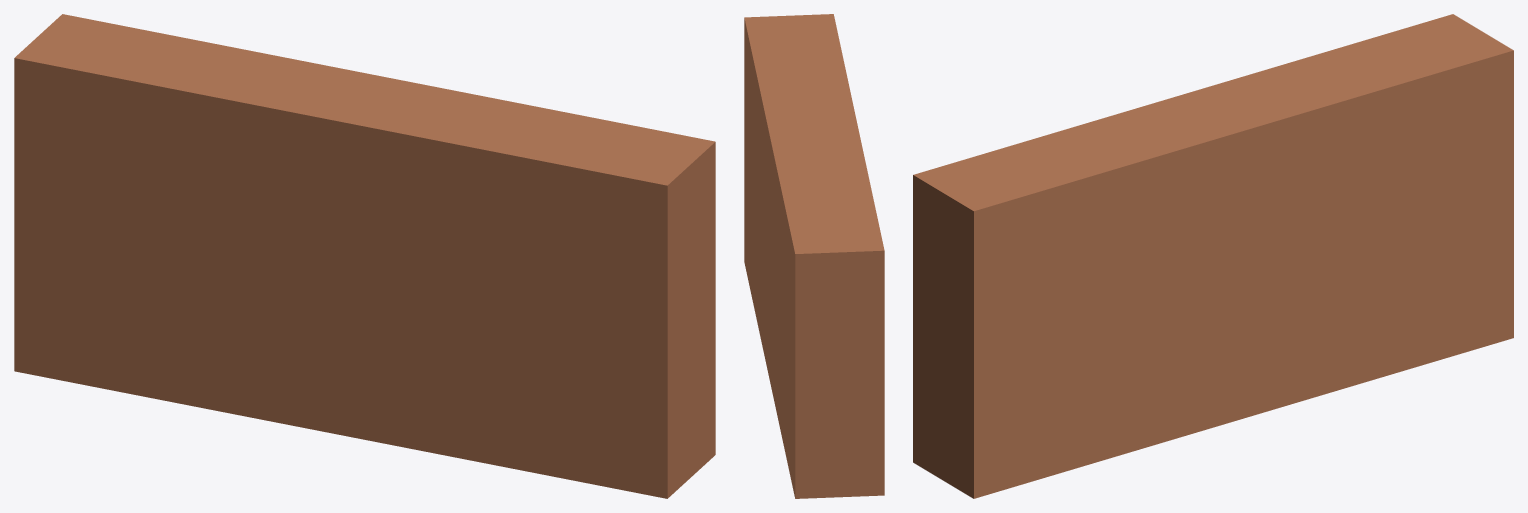
The model's file is Bois.glb.
The picture shows the model from 3 angles, left to right: view 1: azimuth 30°, elevation 25°; view 2: azimuth 150°, elevation 25°; view 3: azimuth 270°, elevation 25°; orthographic projection. The views are drawn at different scales.
Parts seen in each view (by area): view 1: node_id4; view 2: node_id4; view 3: node_id4.
Part boxes in pixels (x1=…): node_id4: x1=14, y1=14, x2=715, y2=498; node_id4: x1=744, y1=14, x2=884, y2=498; node_id4: x1=913, y1=14, x2=1513, y2=498.
Bounding box in the file's own units: 0.1244 × 0.0846 × 0.16.
Materials: 1 (1 with a texture image).
